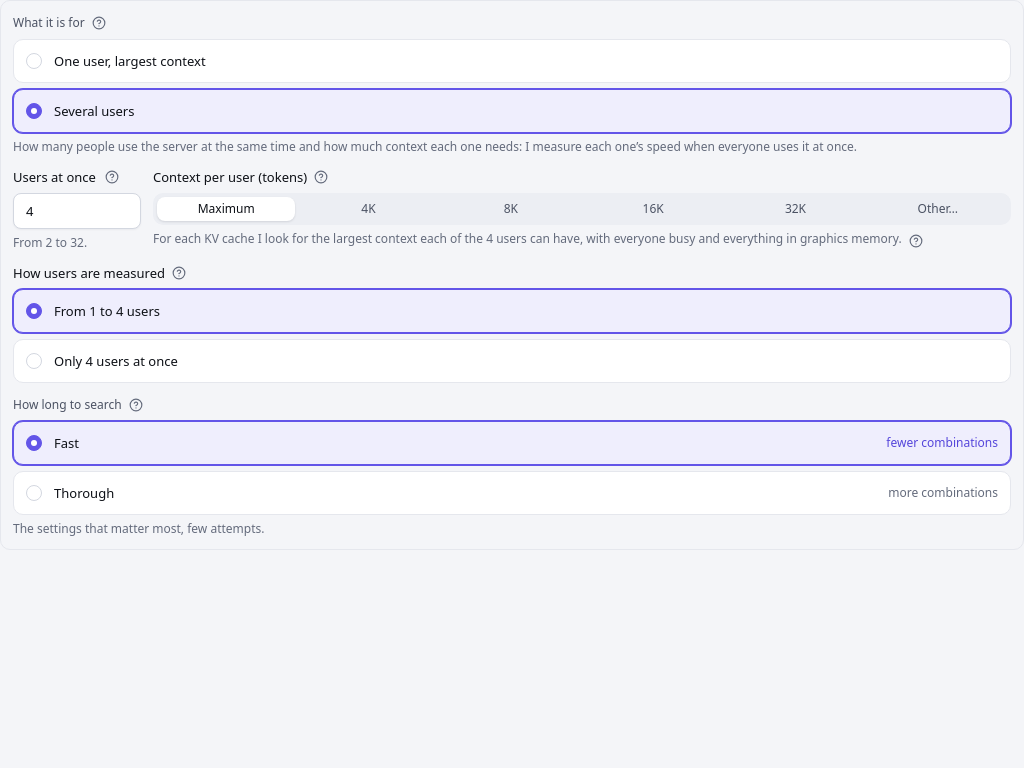
Test: the context per user: "Massimo" and "Altro…" › English: Maximum and Other…
Expected: the text "For each KV cache I look for the largest context each of the 4 users can have" is shown, [153, 230, 902, 247]
Click the radio button labelled "Other…": (938, 209) [869, 197, 1007, 221]
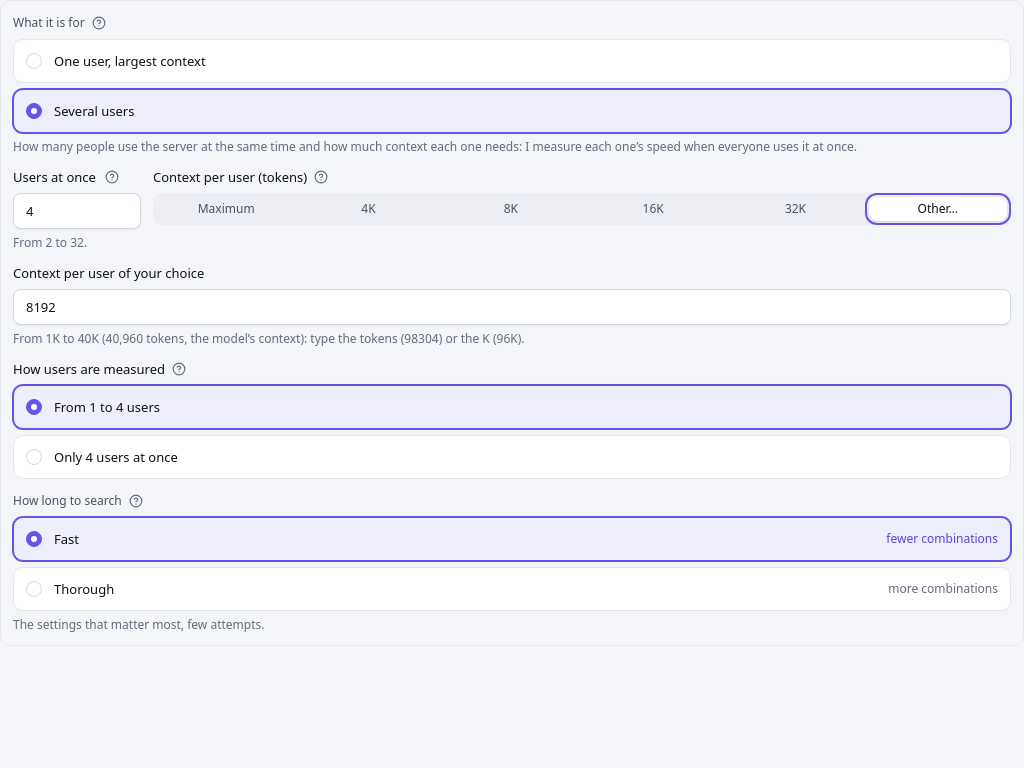
Expected: the text "From 1K to 40K (40,960 tokens, the model’s context): type the tokens (98304) or the K (96K)." is shown, [13, 330, 524, 347]
